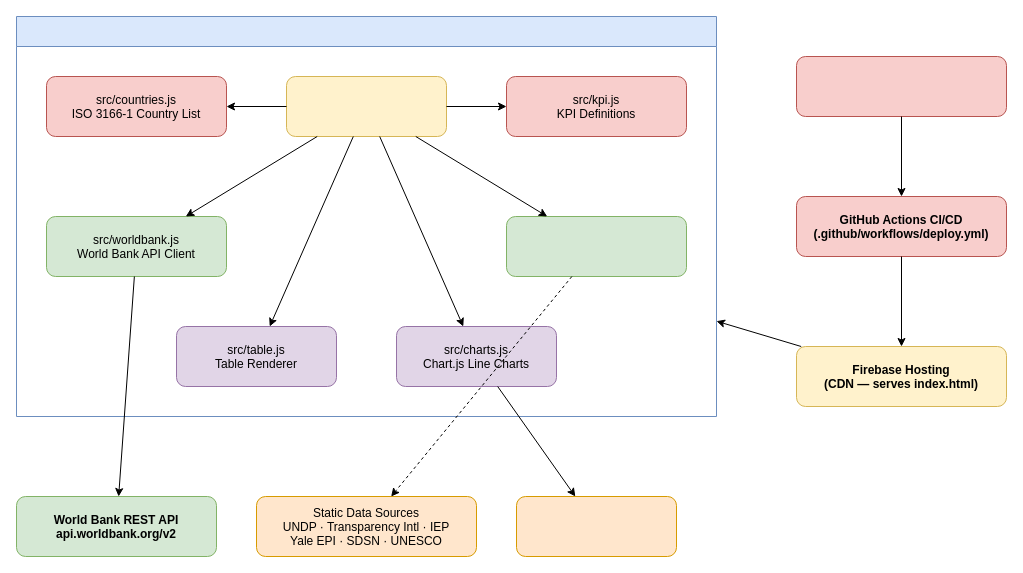
The diagram is 1023 pixels wide and 573 high, and some of its shapes have lost their labels. The shapes that lost their labels are listed below. From the top down, each one's box as (x1, y1, x2, y2) in pixels, then its label:
(286, 76, 446, 136): src/app.js Orchestrator
(796, 56, 1006, 116): GitHub (main branch push)
(16, 16, 716, 416): Browser (Client)
(506, 216, 686, 276): src/staticData.js Embedded Static Datasets
(516, 496, 676, 556): Chart.js v4 (CDN)
